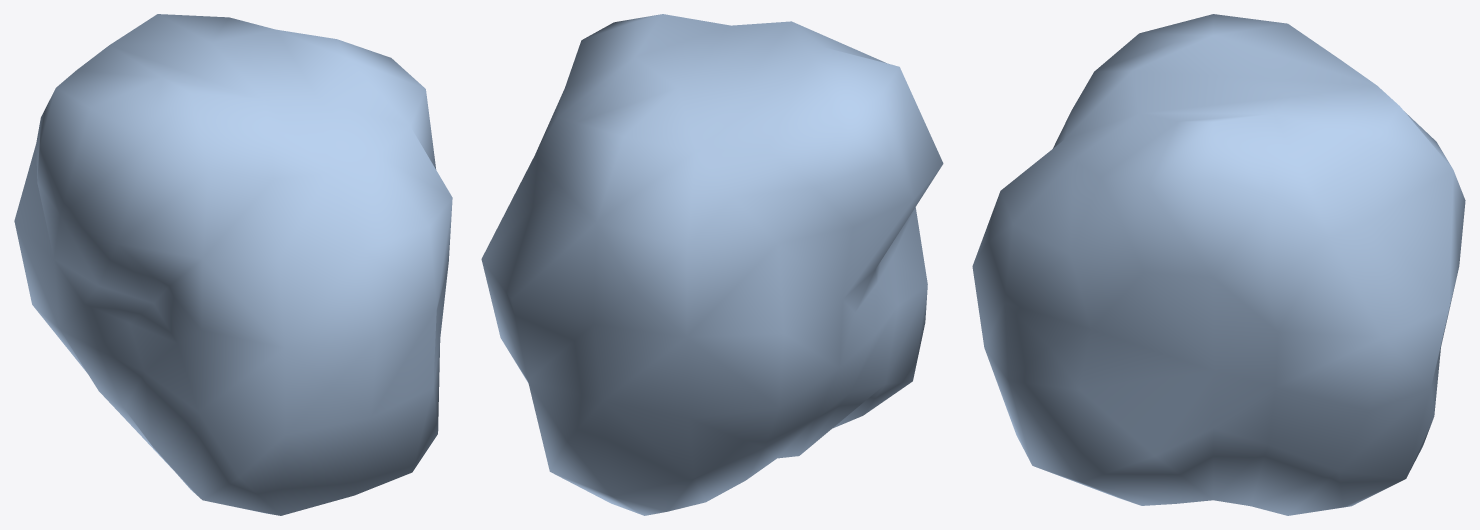
File: Stone.fbx
3 views of the same model, side by side, from view 1: azimuth 30°, elevation 25°; view 2: azimuth 150°, elevation 25°; view 3: azimuth 270°, elevation 25° (orthographic). The views are drawn at different scales.
Parts seen in each view (by area): view 1: Stone3.obj; view 2: Stone3.obj; view 3: Stone3.obj.
Part boxes in pixels (bbox=[...]): Stone3.obj: bbox=[14, 14, 452, 515]; Stone3.obj: bbox=[481, 14, 943, 515]; Stone3.obj: bbox=[972, 14, 1465, 515].
Size of the model in its own units: 1259 by 1600 by 1467.
